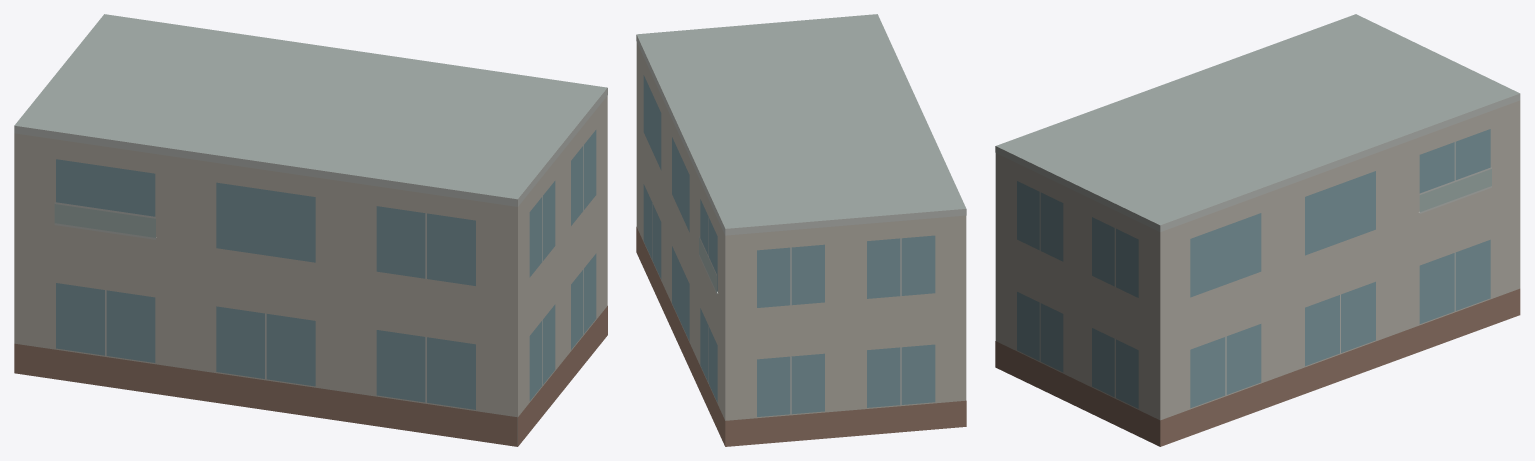
Rendered from survey-upis-32639410.glb.
The picture shows the model from 3 angles, left to right: view 1: azimuth 30°, elevation 25°; view 2: azimuth 150°, elevation 25°; view 3: azimuth 270°, elevation 25°; orthographic projection. The views are drawn at different scales.
Parts seen in each view (by area): view 1: survey-upis-32639410.tmp; view 2: survey-upis-32639410.tmp; view 3: survey-upis-32639410.tmp.
Part boxes in pixels (x1,y1,x2,y2): survey-upis-32639410.tmp: [14, 14, 607, 446]; survey-upis-32639410.tmp: [636, 14, 966, 446]; survey-upis-32639410.tmp: [995, 14, 1520, 446].
Size of the model in its own units: 16.18 by 7.9 by 16.97.
